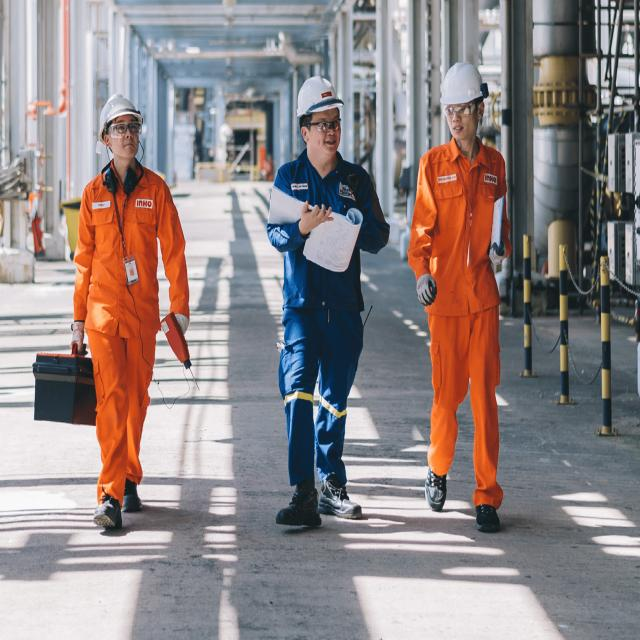Reflective-Jacket: (70, 162, 189, 356), (410, 138, 510, 322)
Safety-Helmet: (92, 88, 147, 148), (436, 57, 492, 111), (292, 68, 346, 120)
